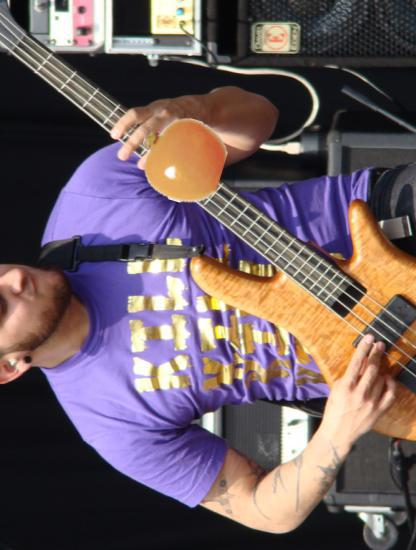Physalis: (140, 117, 225, 202)
